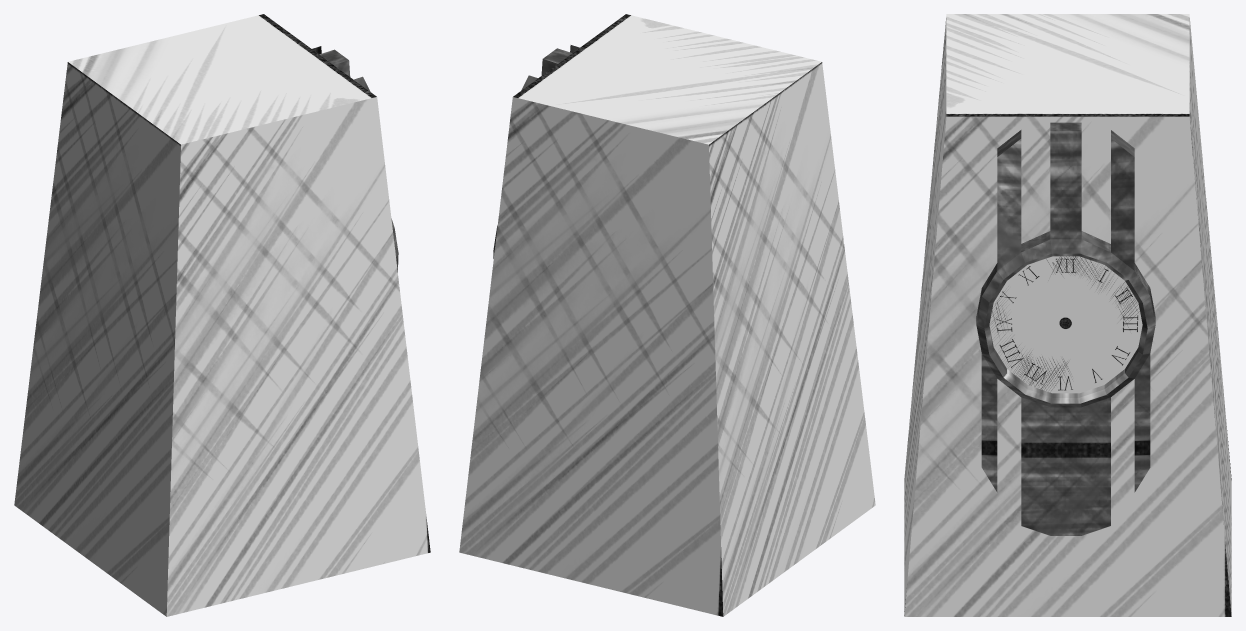
Rendered from clock.fbx.
3 views of the same model, side by side, from view 1: azimuth 30°, elevation 25°; view 2: azimuth 150°, elevation 25°; view 3: azimuth 270°, elevation 25° (orthographic). The views are drawn at different scales.
Parts seen in each view (by area): view 1: Clock; view 2: Clock; view 3: Clock.
Boxes of the visible parts, x1,y1,x2,y2 form: Clock: (14, 14, 430, 616); Clock: (459, 14, 875, 616); Clock: (904, 14, 1231, 616).
Bounding box in the file's own units: 104 × 163 × 100.
